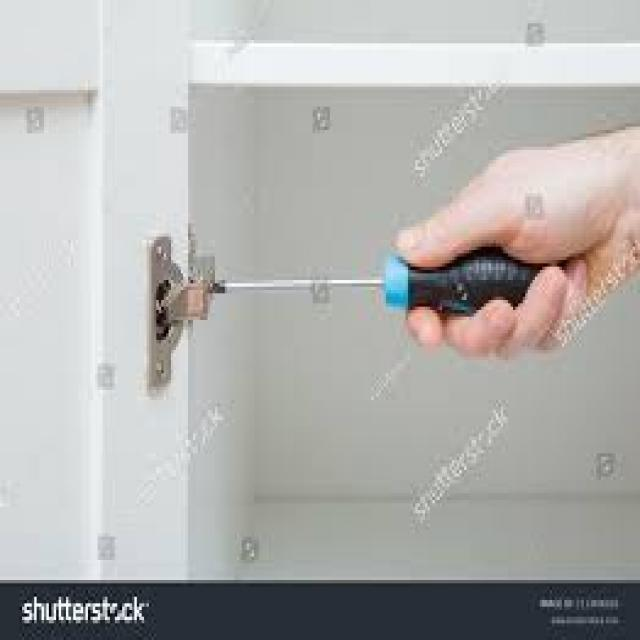screwdriver: (202, 242, 548, 332)
